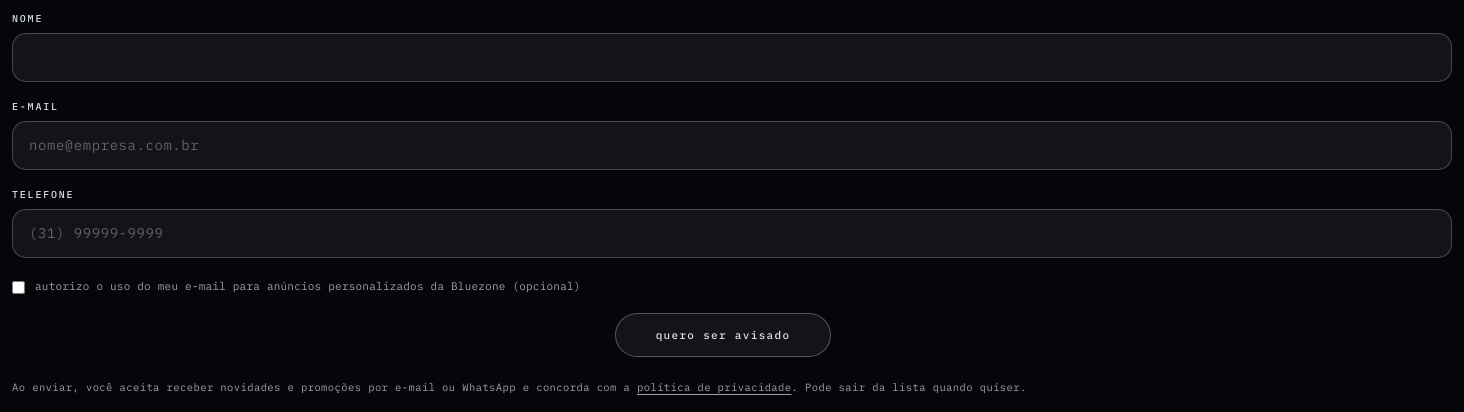
Test: consentimento e medição (LGPD) › formulário manda a versão da política e a origem da campanha; newsletter registra a caixa de anúncios
In the field labelled "nome": (732, 58) [12,33,1452,82], type "Sarah"
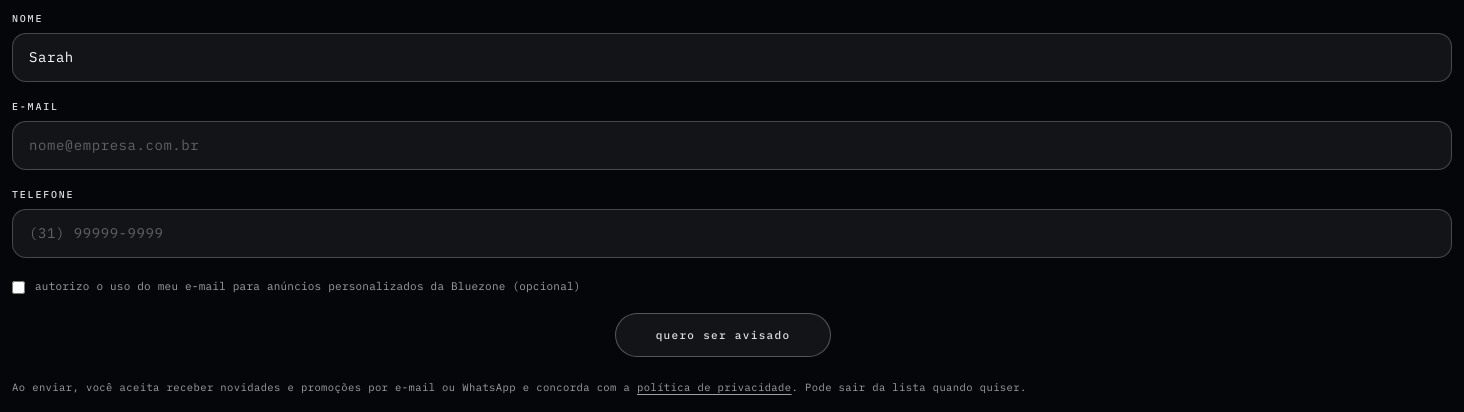
In the field labelled "e-mail": (732, 146) [12,121,1452,170], type "sarah@exemplo.com"
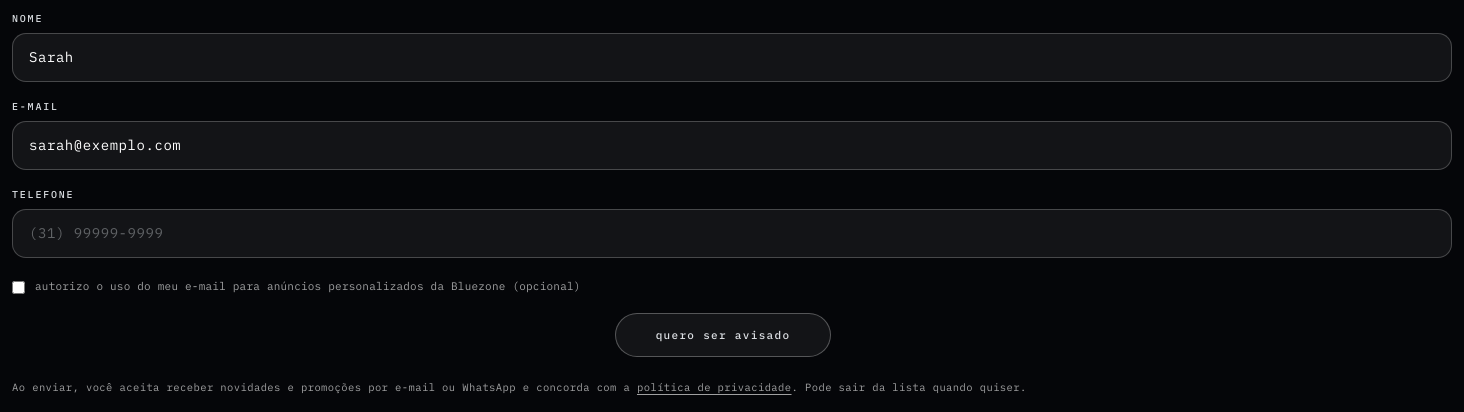
In the field labelled "telefone": (732, 234) [12,209,1452,258], type "31993341543"
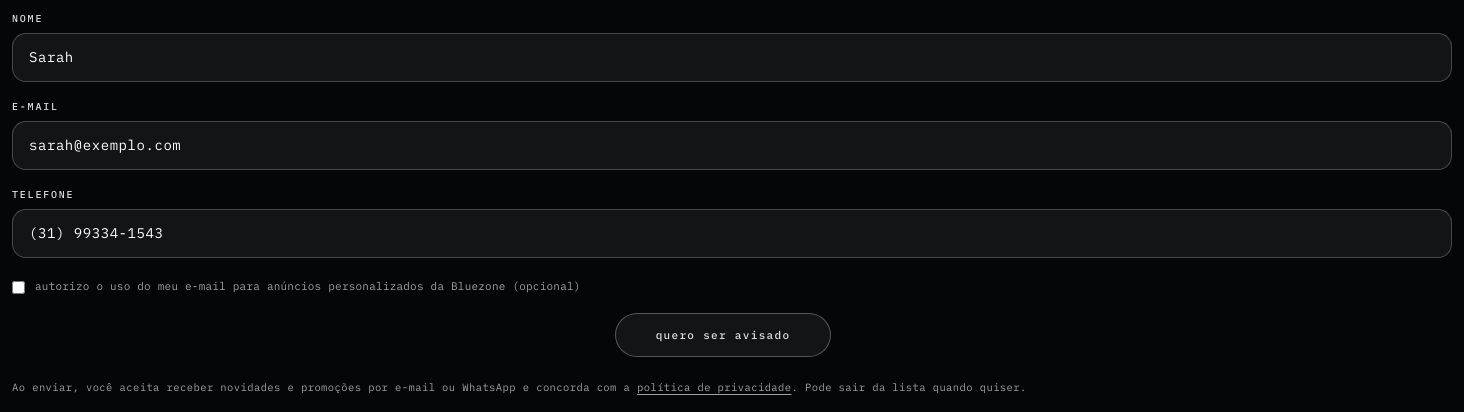
Click the checkbox labelled "anúncios personalizados": (18, 288) [12,281,25,294]
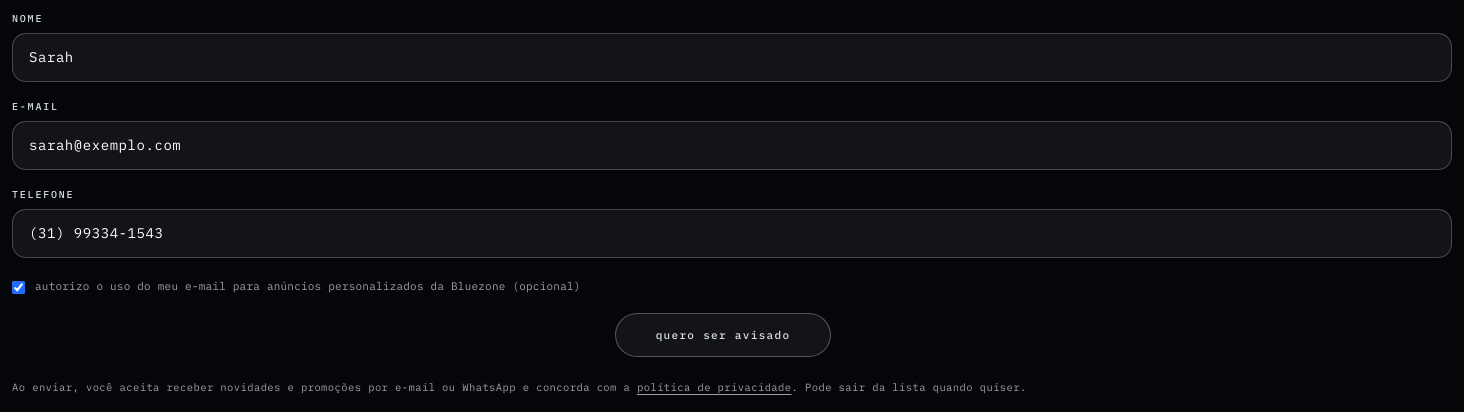
Submit the form named "Inscrição na BlueNews"
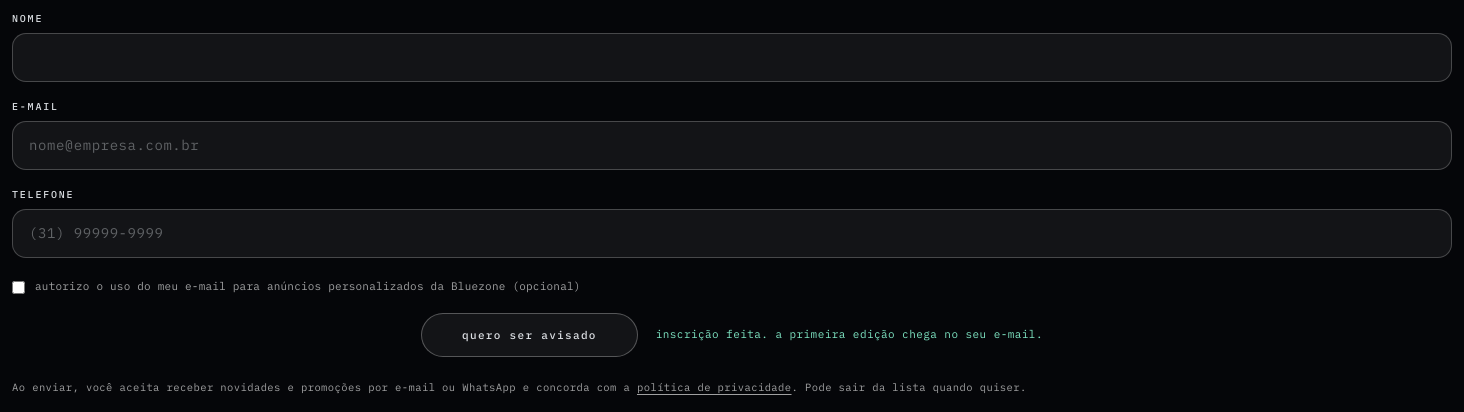
Result: the text "inscrição feita. a primeira edição chega no seu e-mail." is shown at [656,326,1043,343]
